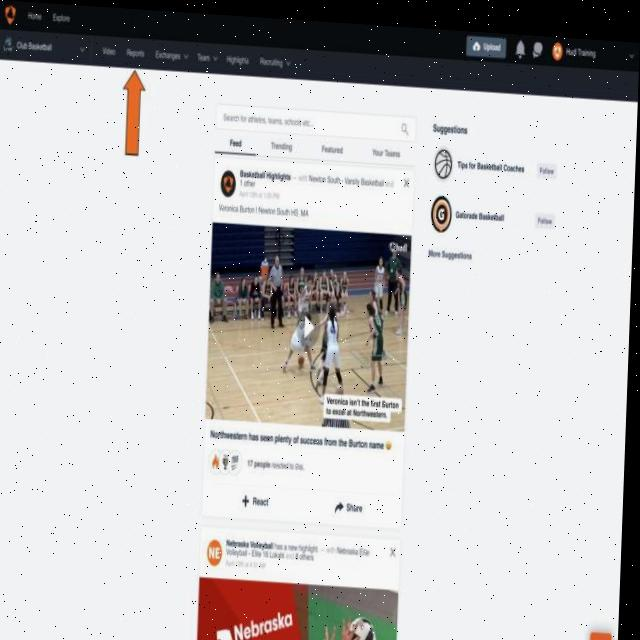Basketball: (346, 615, 378, 640)
